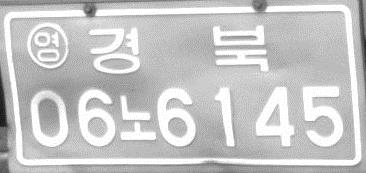0: (30, 89, 69, 148)
1: (210, 84, 238, 148)
4: (253, 85, 295, 147)
5: (300, 83, 344, 149)
6: (155, 86, 198, 149), (77, 87, 117, 149)
경북_D: (86, 23, 271, 77)
노: (118, 93, 158, 143)
영: (25, 21, 70, 69)
